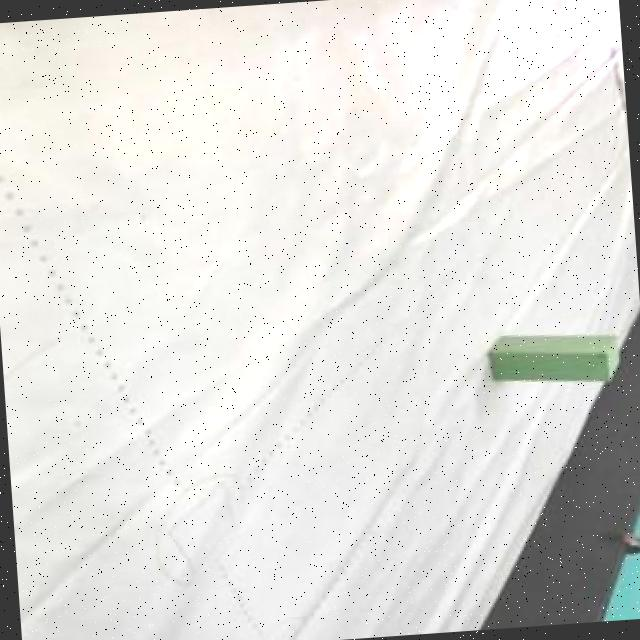greenbox: (483, 324, 626, 389)
